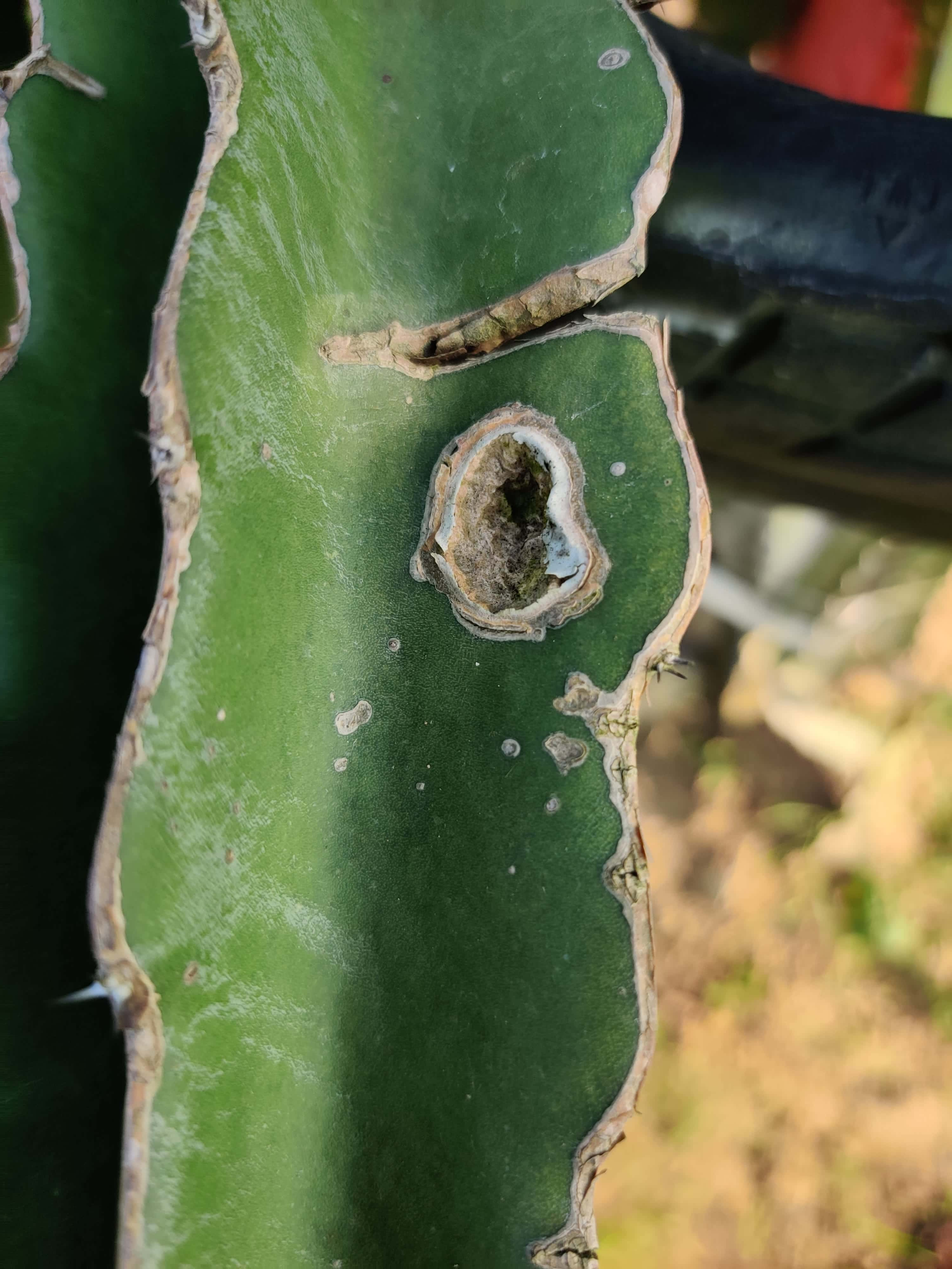stemcanker: (420, 397, 614, 635)
